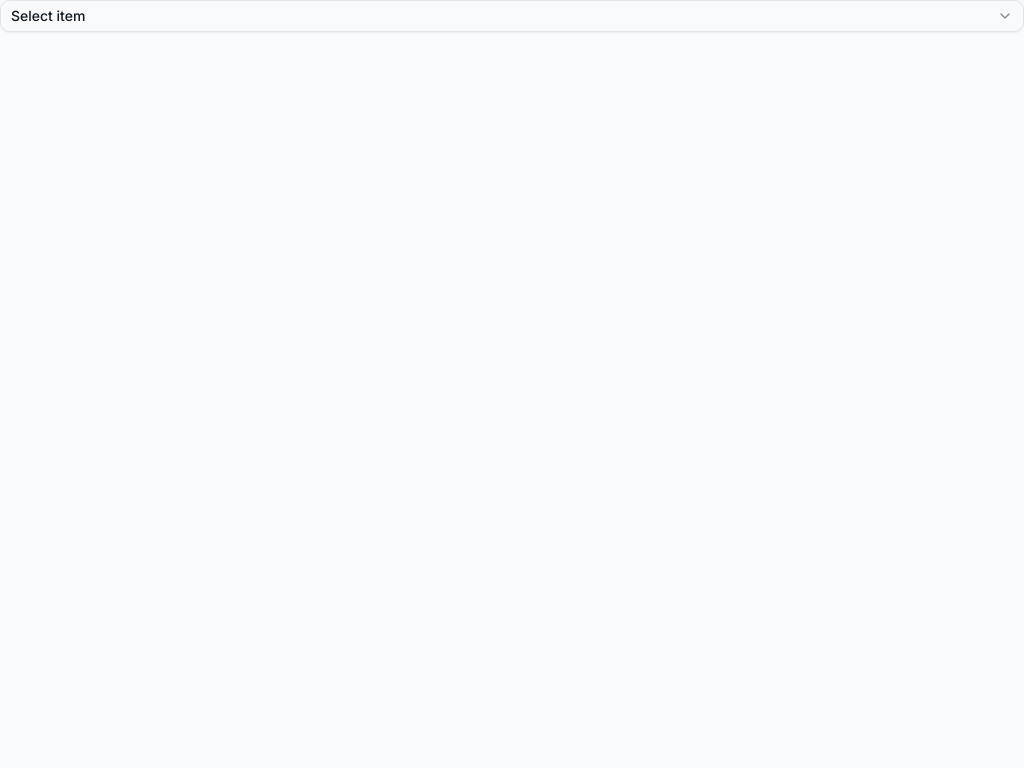
SearchableSelect Component › filters items when searching
The width and height of the screenshot is (1024, 768).
Click the dropdown: (48, 16) x1=0 y1=0 x2=1023 y2=32
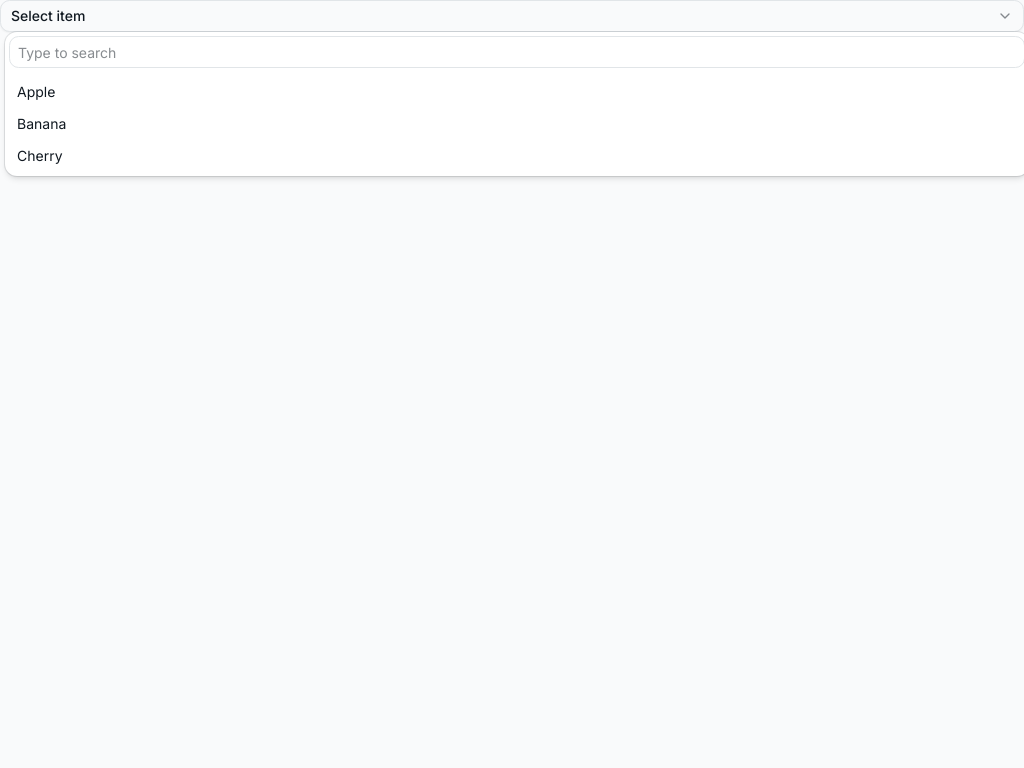
Check: the option "Apple" is shown, box x1=17 y1=83 x2=55 y2=100
In the dropdown with placeholder "Type to search": (516, 52) x1=9 y1=36 x2=1023 y2=68, type "zzzzz"
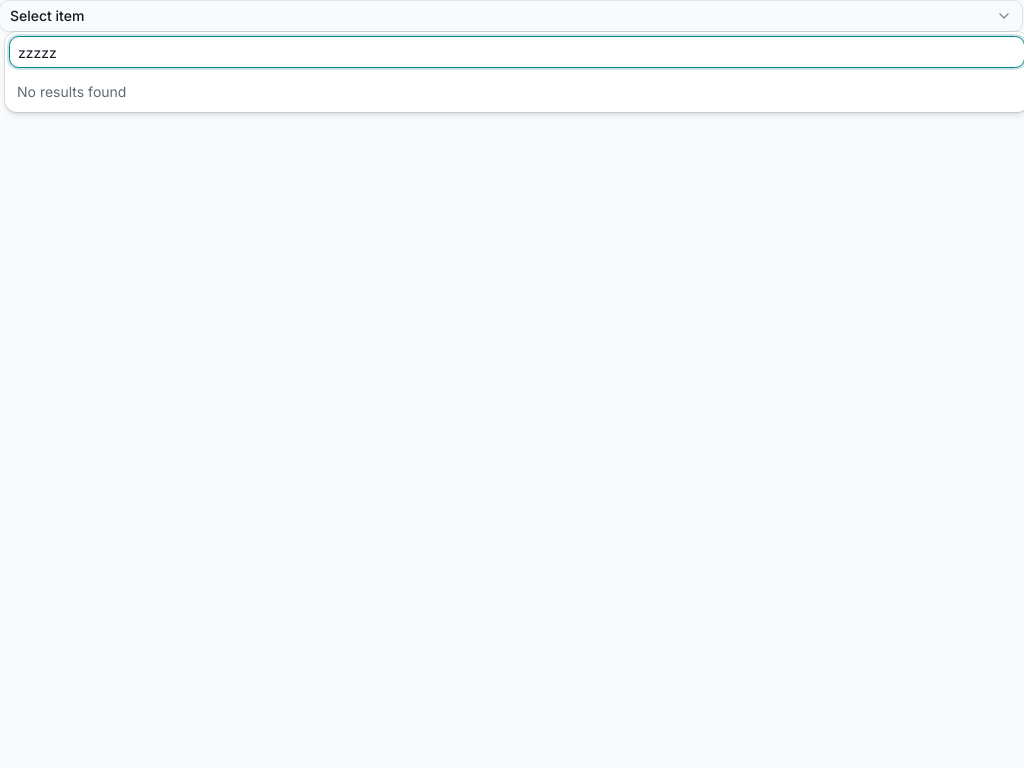
Check: the text "No results found" is shown, box x1=17 y1=83 x2=126 y2=100
